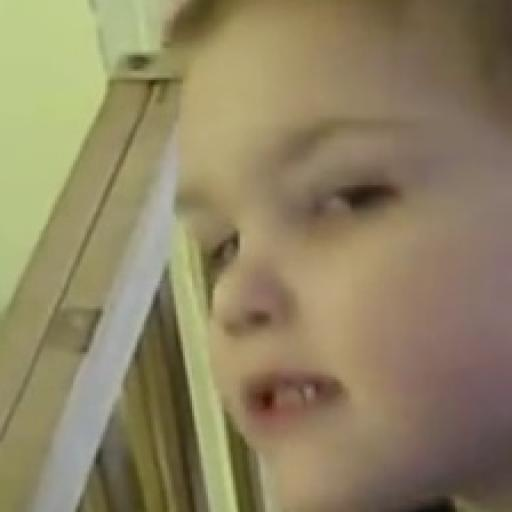Autism: (121, 13, 512, 512)
